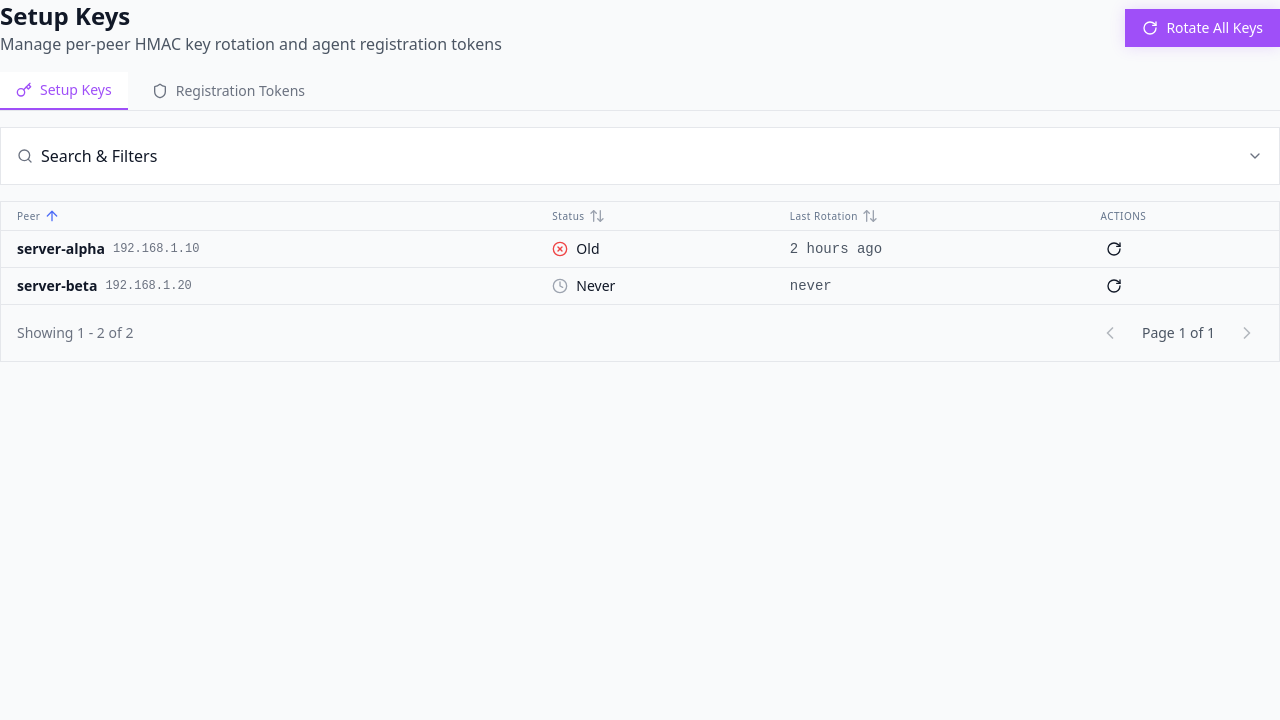
Scenario: SetupKeys Page › opens revoke confirmation modal
Click the button "Registration Tokens": (228, 91) [136, 72, 321, 110]
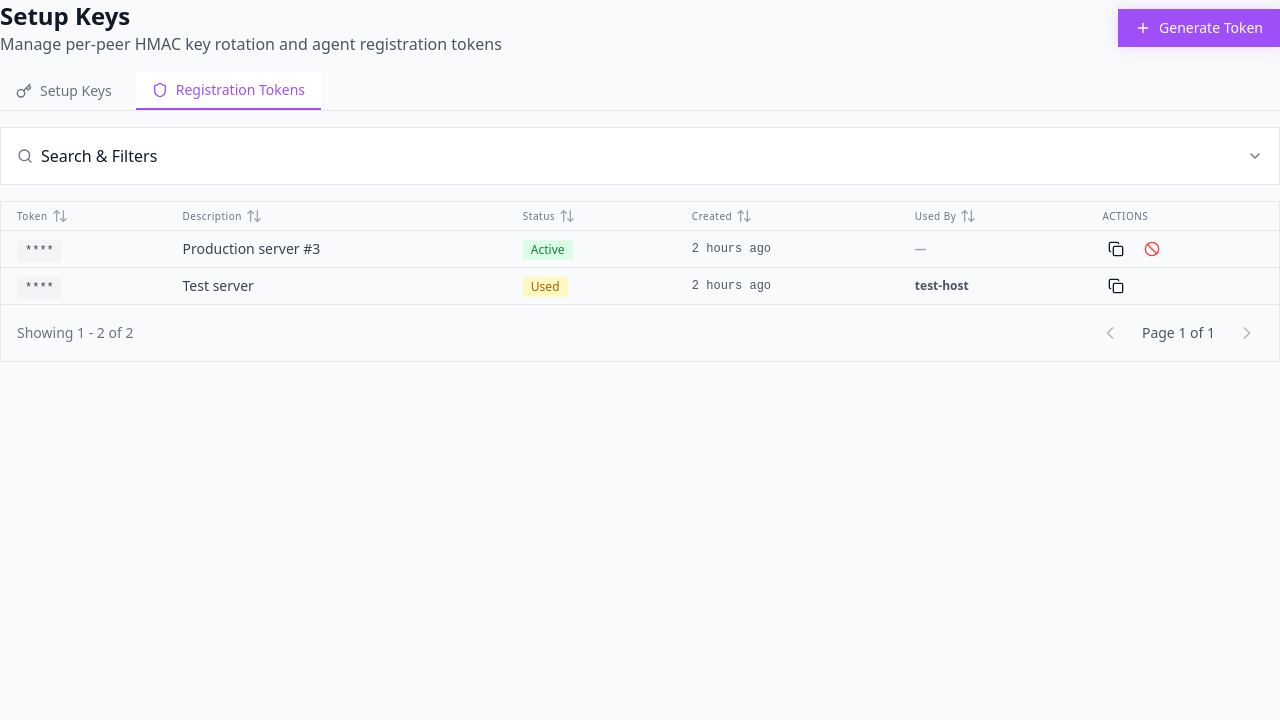
Check: the text "Active" is shown, box [523, 240, 572, 260]
Click the button titled "Revoke": (1152, 249) [1138, 235, 1166, 263]
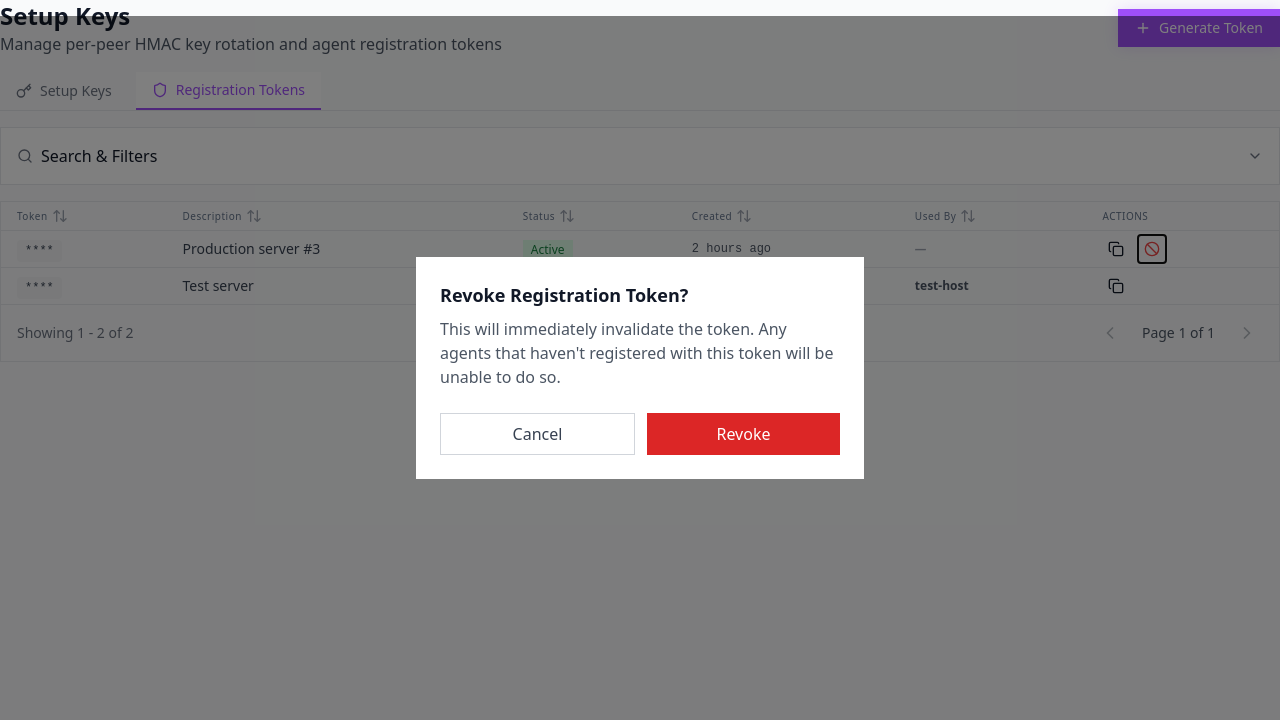
Check: the heading "Revoke Registration Token?" is shown, box [440, 283, 688, 307]
